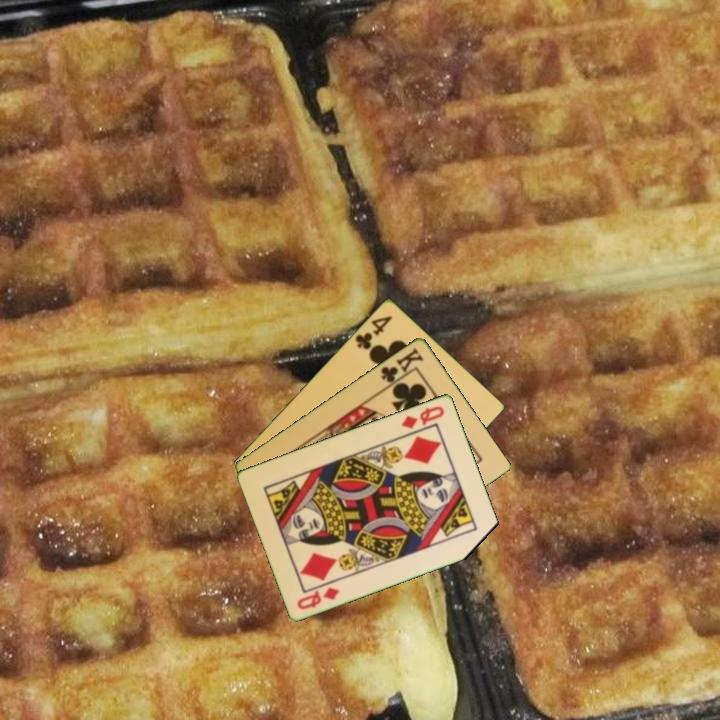4c: (352, 312, 395, 352)
Kc: (377, 344, 427, 390)
Qd: (398, 402, 448, 431), (293, 583, 342, 612)
